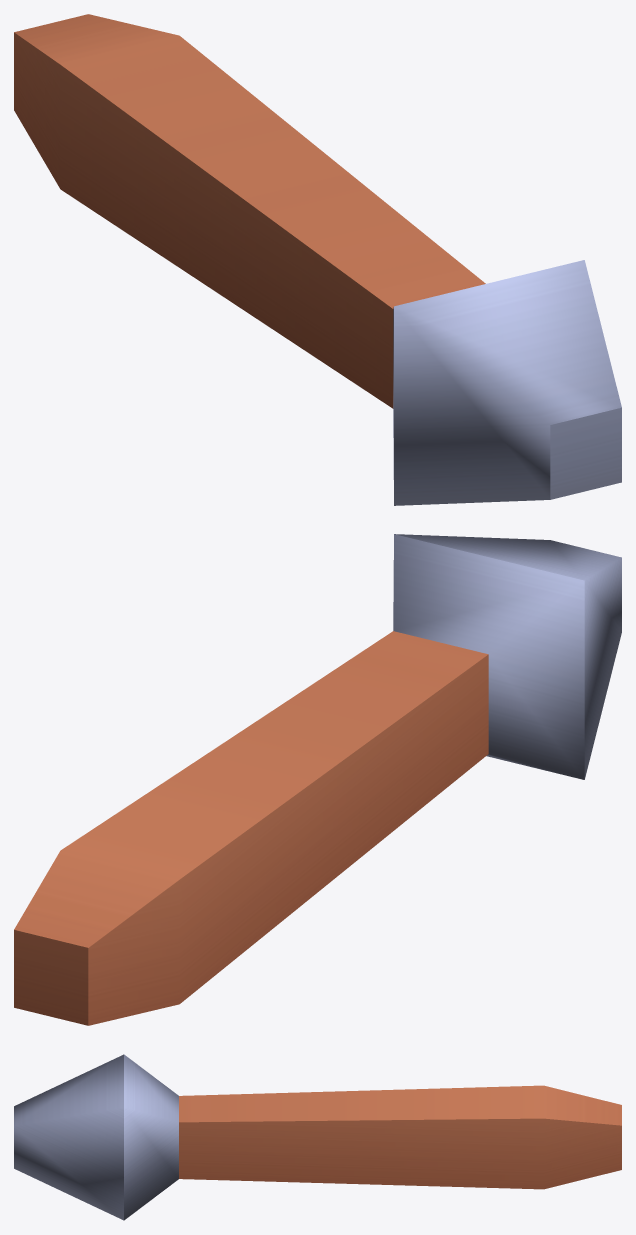
File: weapon-ammo-arrow.fbx
The picture shows the model from 3 angles, top to bottom: view 1: azimuth 30°, elevation 25°; view 2: azimuth 150°, elevation 25°; view 3: azimuth 270°, elevation 25°; orthographic projection. The views are drawn at different scales.
Visible parts, largest first — view 1: weapon-ammo-arrow; view 2: weapon-ammo-arrow; view 3: weapon-ammo-arrow.
Boxes of the visible parts, <box> form: weapon-ammo-arrow: <box>14,14,621,505</box>; weapon-ammo-arrow: <box>14,534,621,1025</box>; weapon-ammo-arrow: <box>14,1054,621,1220</box>.
Size of the model in its own units: 16 by 16 by 77.76.
